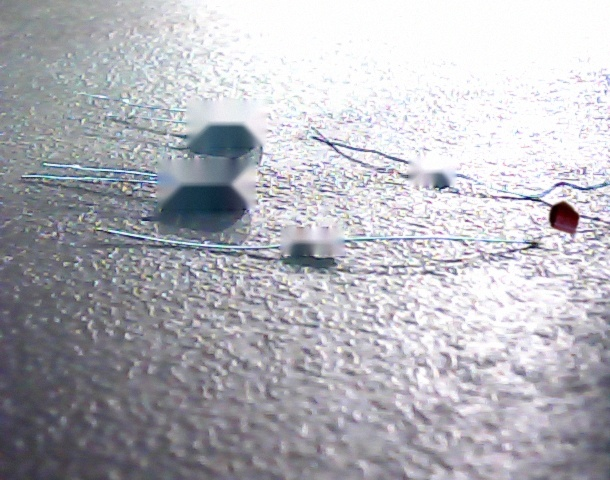capacitor: (549, 201, 580, 234)
